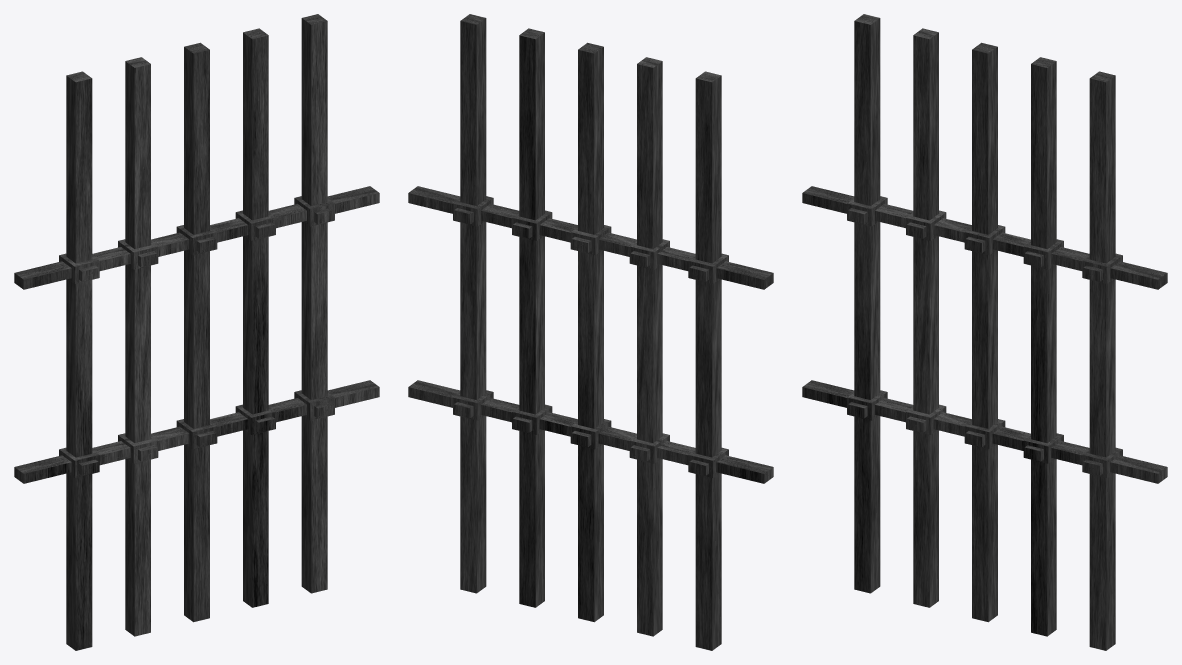
The model's file is barreaux_fenetre_final.glb.
The picture shows the model from 3 angles, left to right: view 1: azimuth 30°, elevation 25°; view 2: azimuth 150°, elevation 25°; view 3: azimuth 330°, elevation 25°; orthographic projection.
Visible parts, largest first — view 1: BARREAUX_FENETRE; view 2: BARREAUX_FENETRE; view 3: BARREAUX_FENETRE.
Part boxes in pixels (<box>): BARREAUX_FENETRE: <box>14,14,379,650</box>; BARREAUX_FENETRE: <box>408,14,773,650</box>; BARREAUX_FENETRE: <box>802,14,1167,650</box>.
Size of the model in its own units: 1.41 by 2.16 by 0.1523.
1 material, 1 textured.
